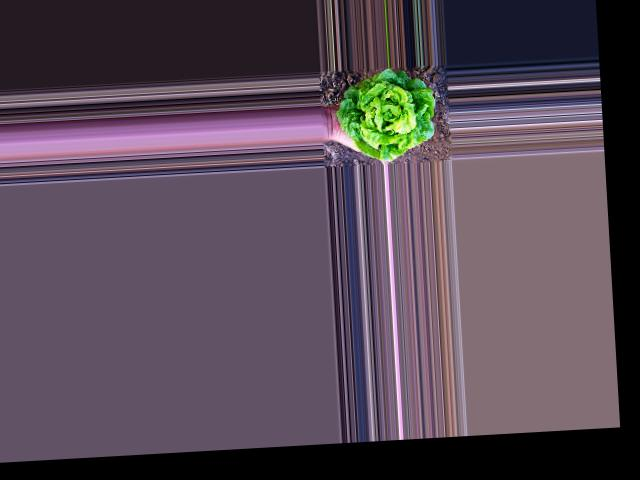lettuce: (341, 68, 440, 161)
